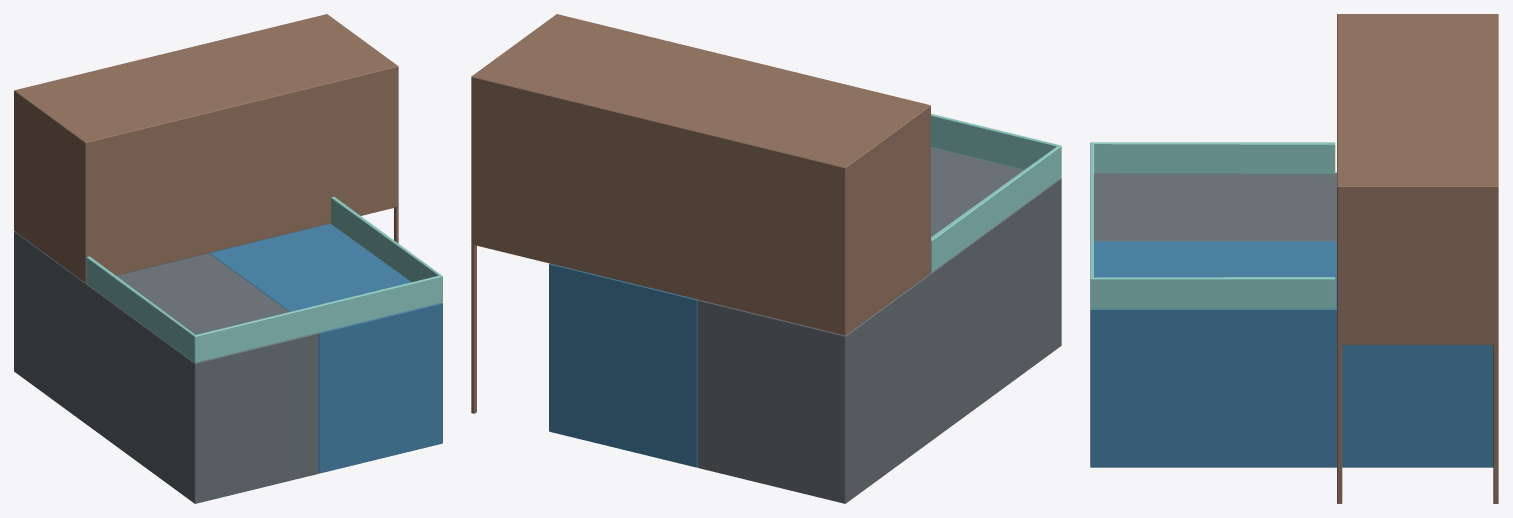
Rendered from SM_Tavern_01.fbx.
The picture shows the model from 3 angles, left to right: view 1: azimuth 30°, elevation 25°; view 2: azimuth 150°, elevation 25°; view 3: azimuth 270°, elevation 25°; orthographic projection. The views are drawn at different scales.
Parts seen in each view (by area): view 1: SM_Tavern_01; view 2: SM_Tavern_01; view 3: SM_Tavern_01.
Boxes of the visible parts, x1=… form: SM_Tavern_01: x1=14, y1=14, x2=442, y2=503; SM_Tavern_01: x1=471, y1=14, x2=1061, y2=503; SM_Tavern_01: x1=1090, y1=14, x2=1498, y2=503.
Size of the model in its own units: 606 by 520 by 606.
